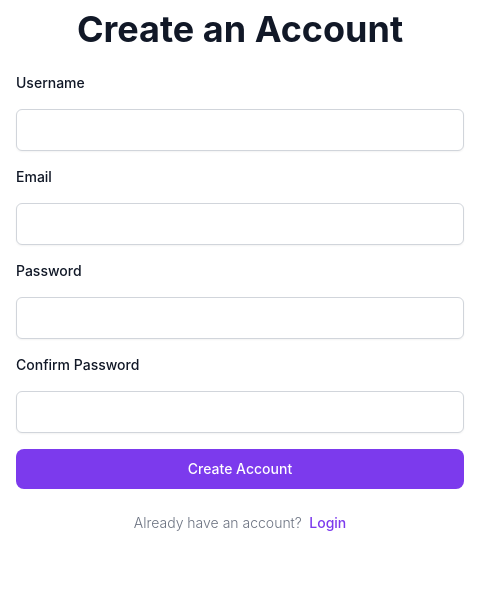
it: SignupForm component › displays error when password does not match
Type "testuser" into the field labelled "Username" at x=240, y=130, box [16,109,464,151]
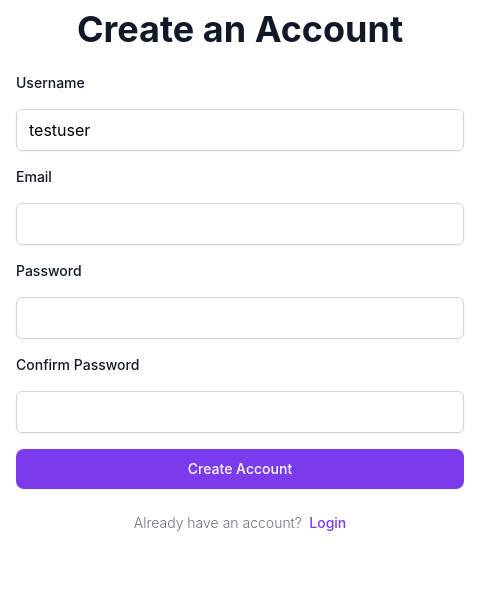
Type "testuser@test.com" into the field labelled "Email" at x=240, y=224, box [16,203,464,245]
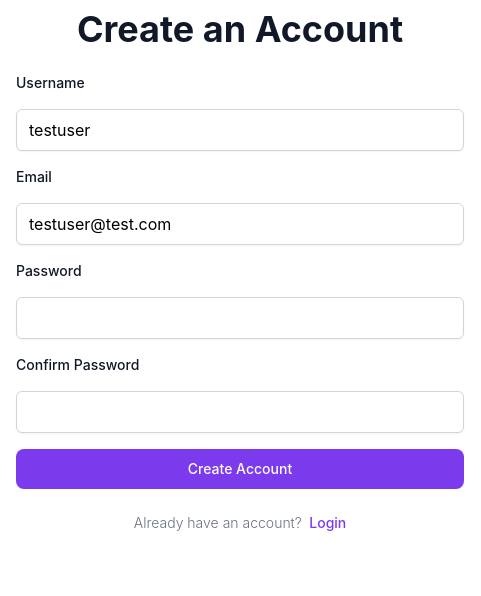
Type "passsword123" into the password field labelled "Password" at x=240, y=318, box [16,297,464,339]
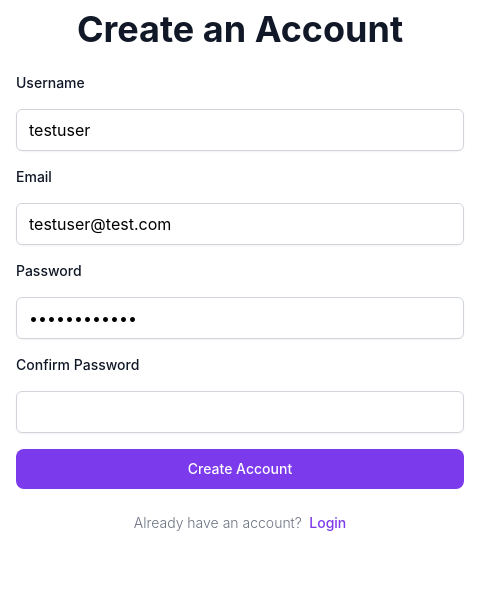
Type "differentpassword" into the password field labelled "Confirm Password" at x=240, y=412, box [16,391,464,433]
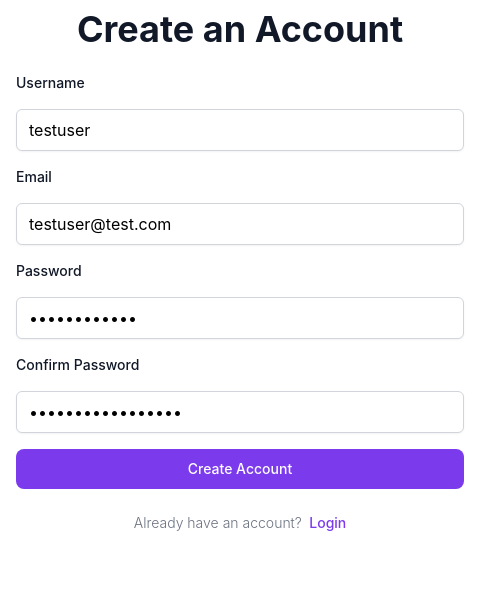
Click the button "Create Account" at x=240, y=469, box [16,449,464,489]
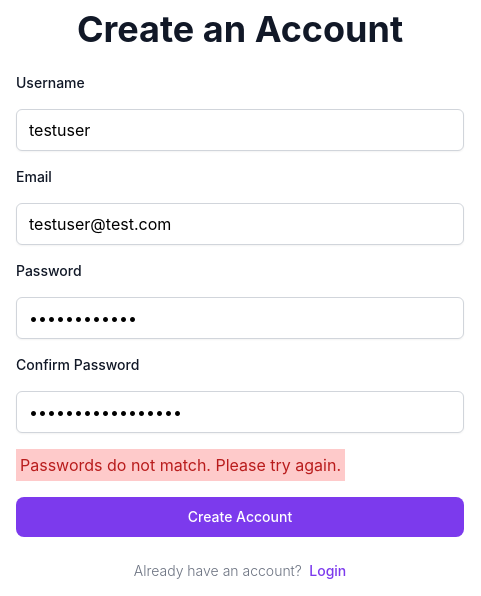
Expected: the text "Passwords do not match. Please try again." is shown, [16,449,345,481]
